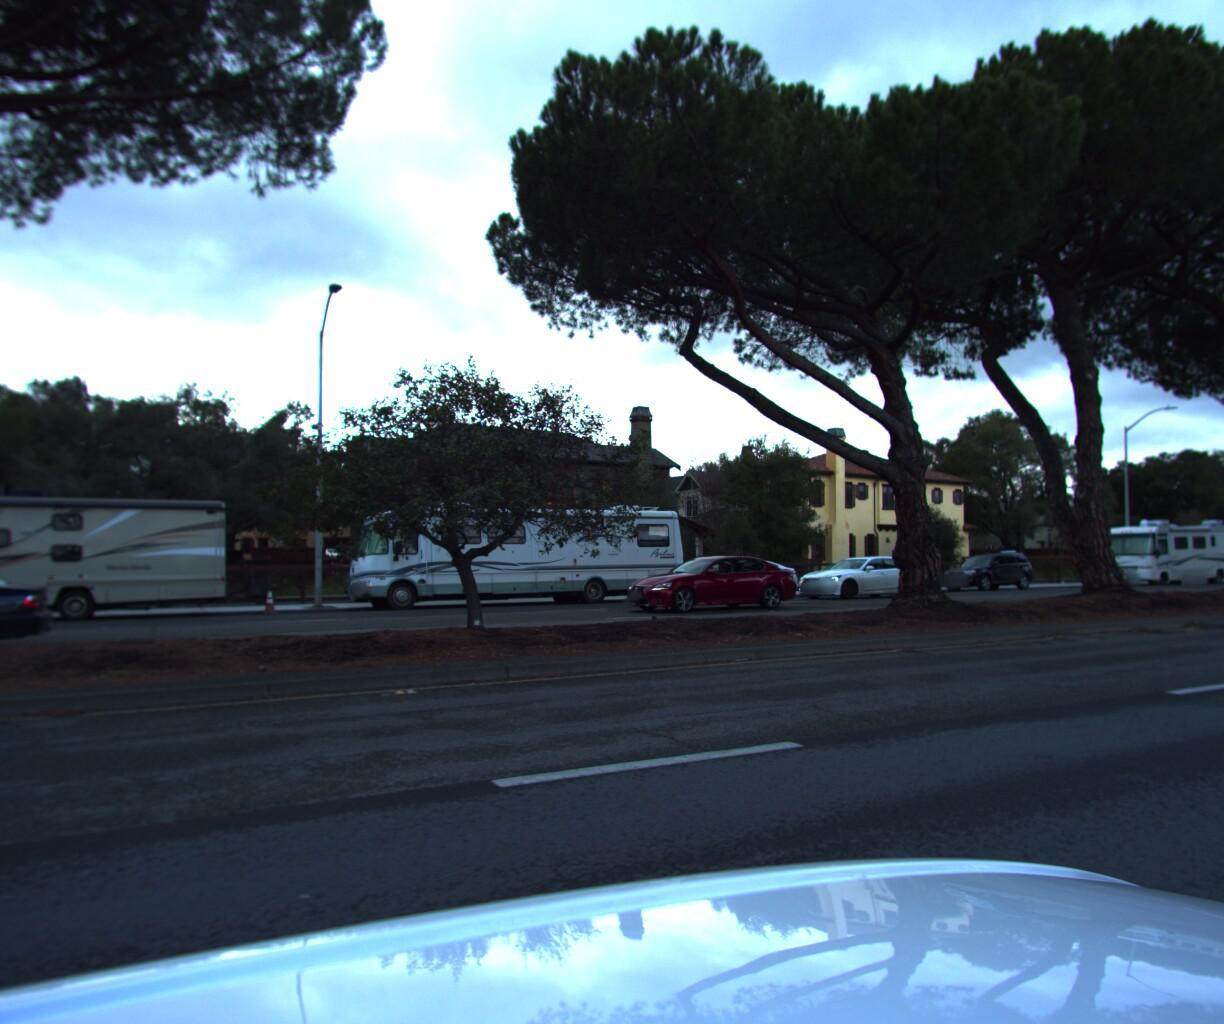car: (617, 553, 802, 612), (665, 554, 807, 600), (795, 551, 938, 595), (0, 560, 53, 678), (788, 552, 914, 597), (933, 546, 1036, 591)
other_vehicle: (332, 486, 691, 613), (0, 469, 238, 638), (1083, 507, 1224, 583)
